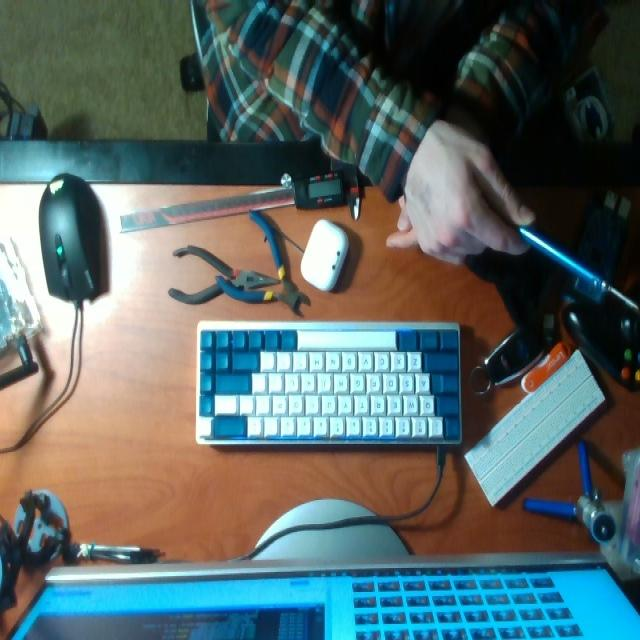keyboard: (197, 323, 464, 438)
